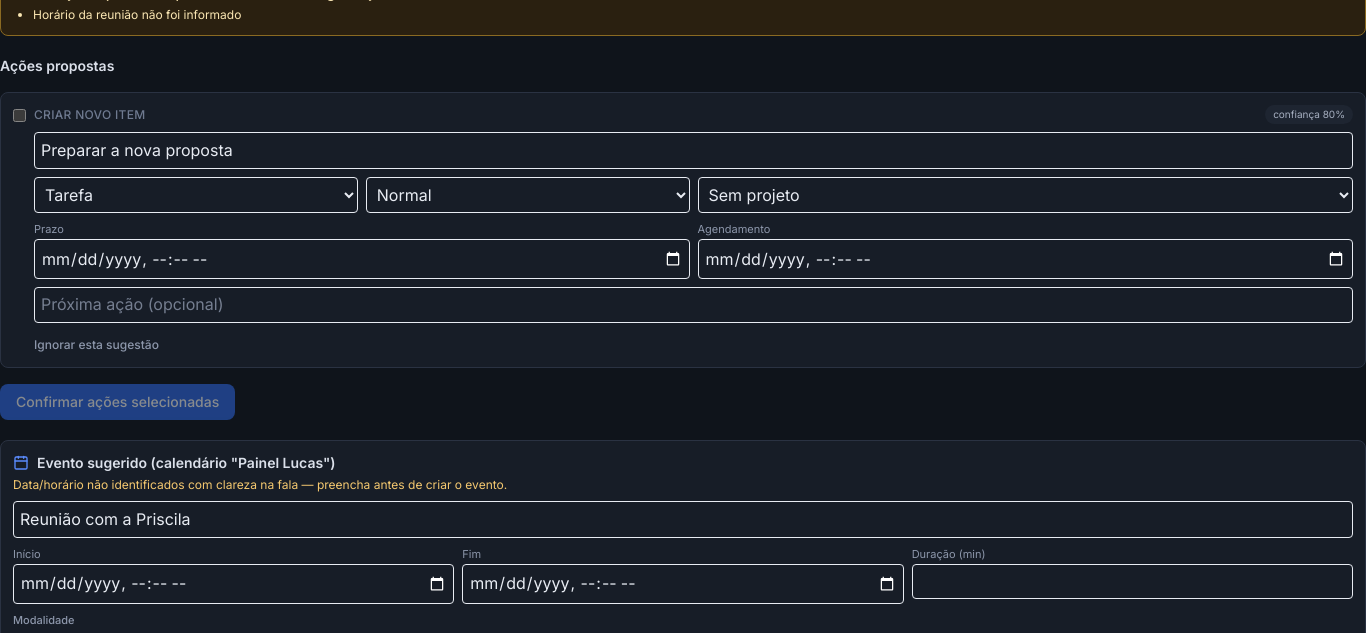
Test: AudioCaptureReview — criação e resultado › sucesso parcial (Google criou, vínculo interno falhou): não trata como falha da criação e oferece retry
Type "2026-08-05T10:00" into the field labelled "Início".
click(234, 584); type("2026-08-05T10:00")  # box [13,564,454,604]
(page scrolled)
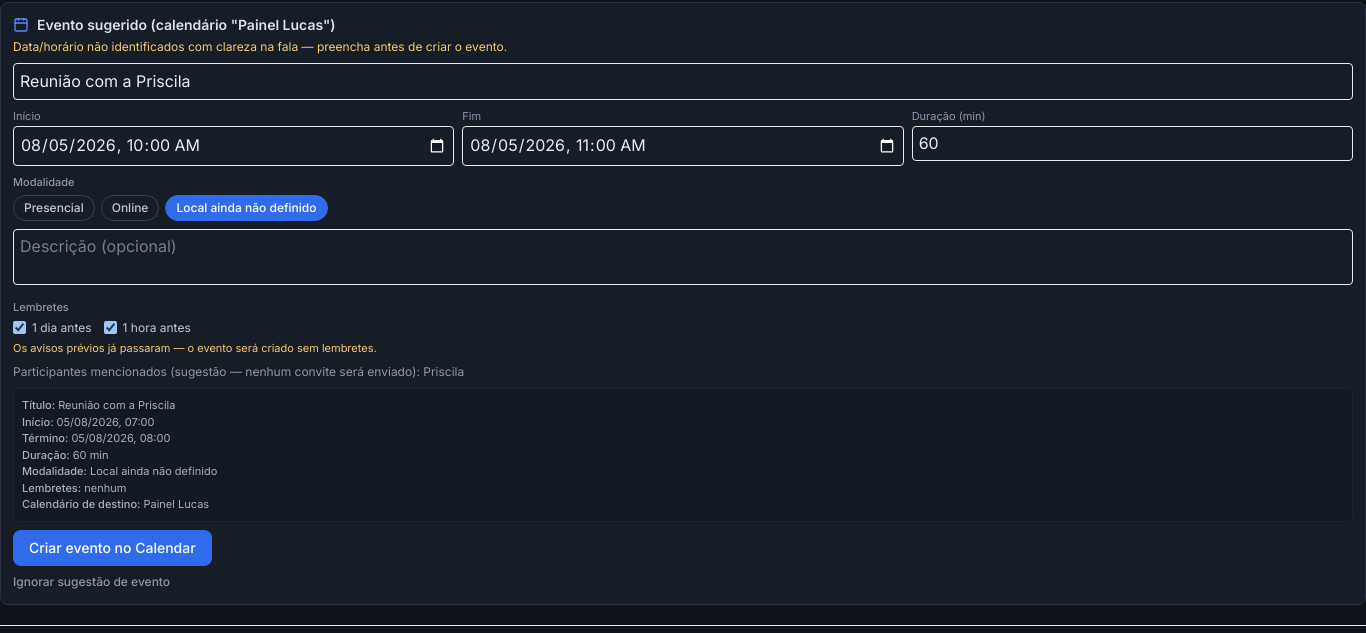
Click the button "Criar evento no Calendar".
click(112, 548)  # box [13,530,212,566]
(page scrolled)
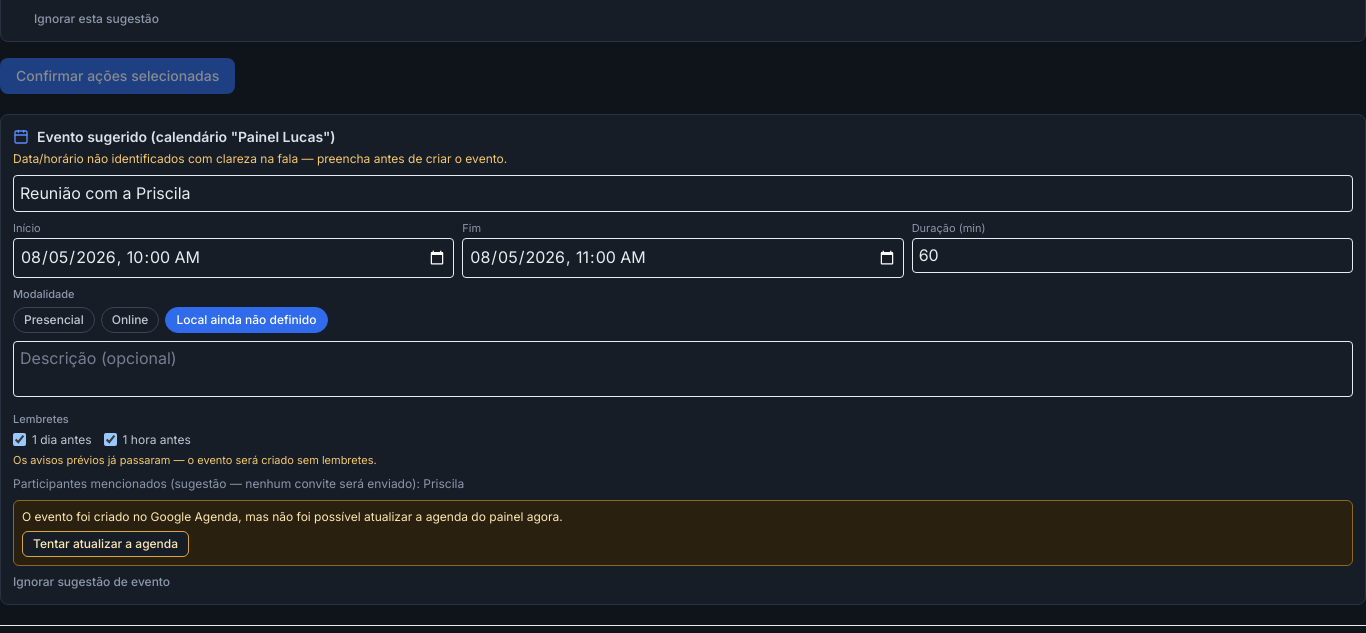
Now the text "O evento foi criado no Google Agenda, mas não foi possível atualizar a agenda do painel agora." is shown, box [22,509,563,524]
Click the button "Tentar atualizar a agenda".
click(106, 544)  # box [22,531,189,557]
(page scrolled)
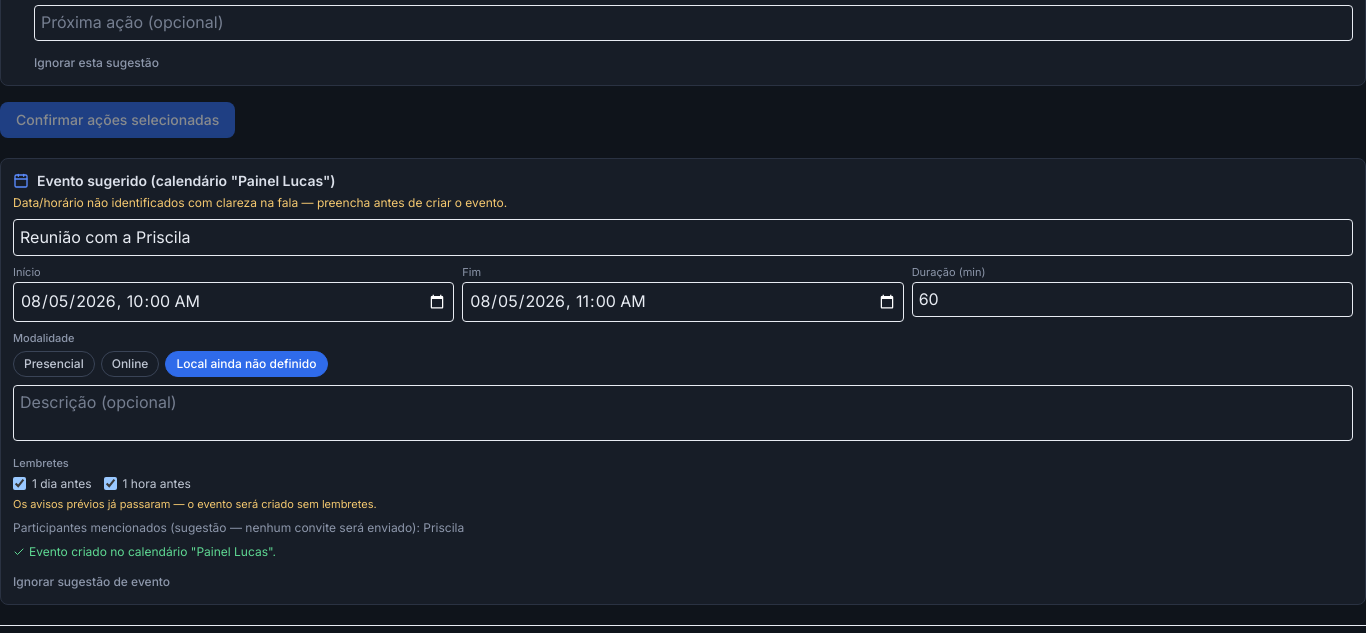
Now the text "Evento criado no calendário \"Painel Lucas\"." is shown, box [13,544,276,559]
